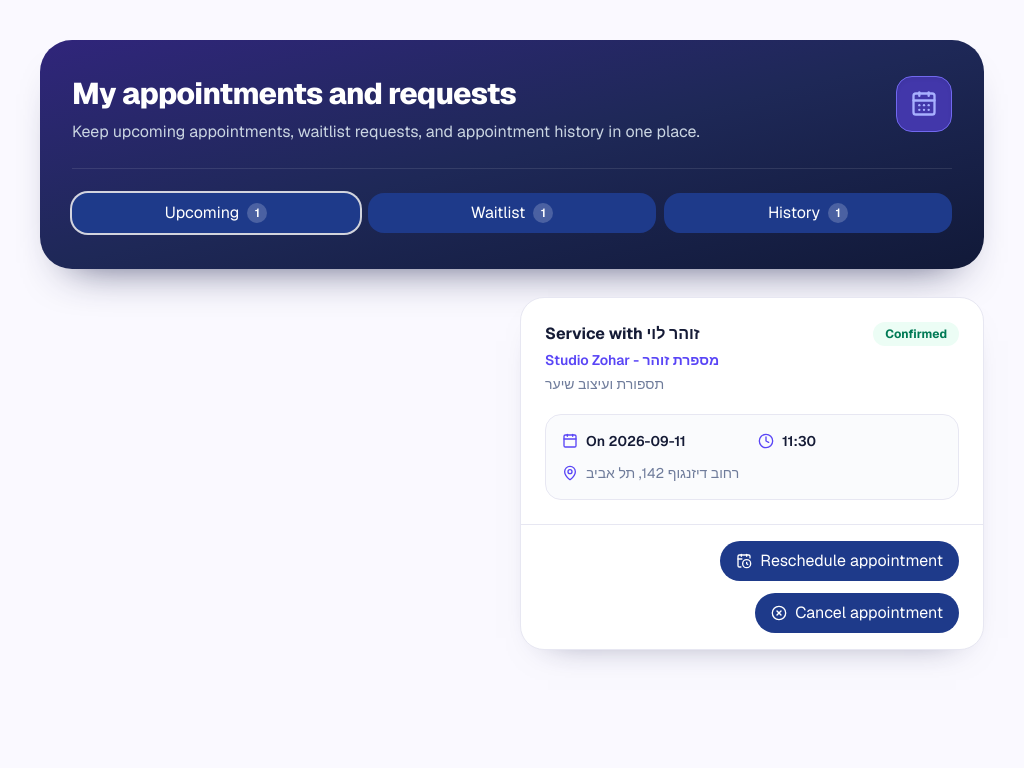
Scenario: appointments panel › keeps the dialog open and shows the API error message when cancelling fails
Click the button "Cancel appointment": (857, 613) [755,593,959,633]
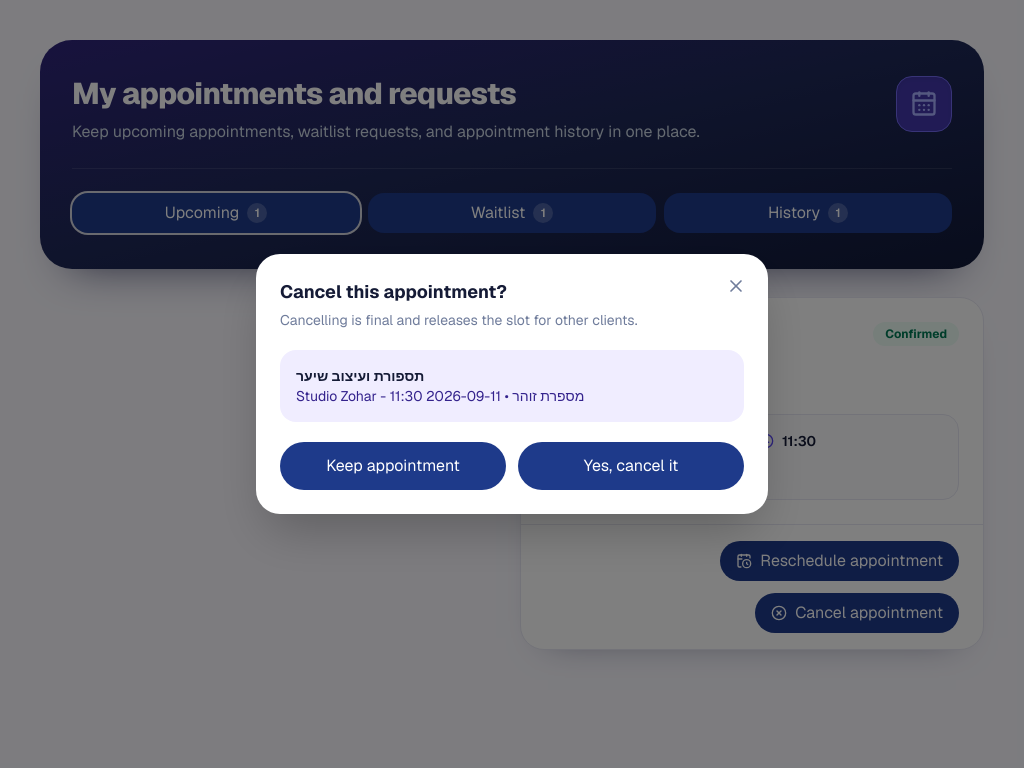
Click the button "Yes, cancel it": (631, 466) [518,442,744,490]
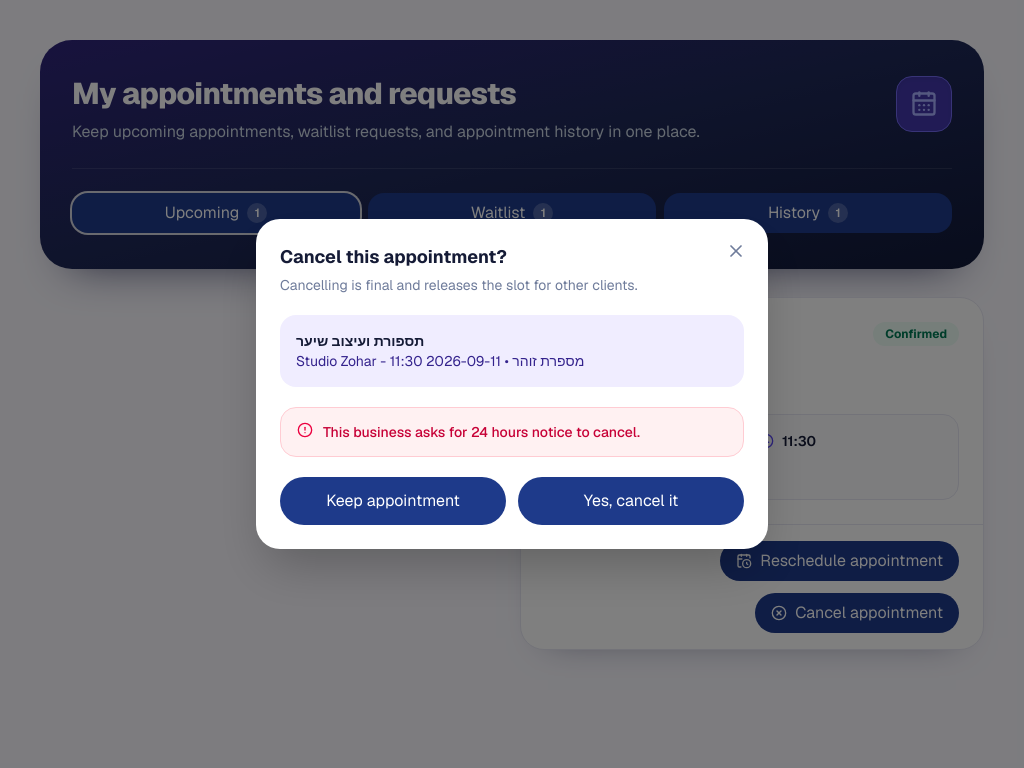
Expected: the dialog "Cancel this appointment?" is shown, [256,219,768,549]
Expected: the message reads "This business asks for 24 hours notice to cancel.", [323,423,640,441]
